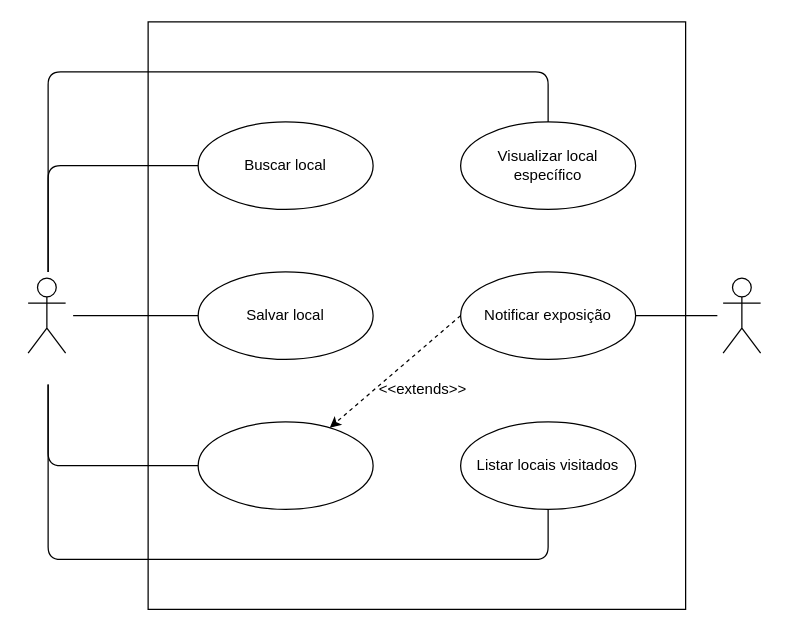
This 791x631 diagram has some shape labels left out. The shapes that lost their labels are listed below. From the top down, each one's centre as x and y in pixels, then its label:
At (x=46, y=315): "Usuário".
At (x=741, y=315): "Servidor".
At (x=285, y=465): "Declarar infecção".
